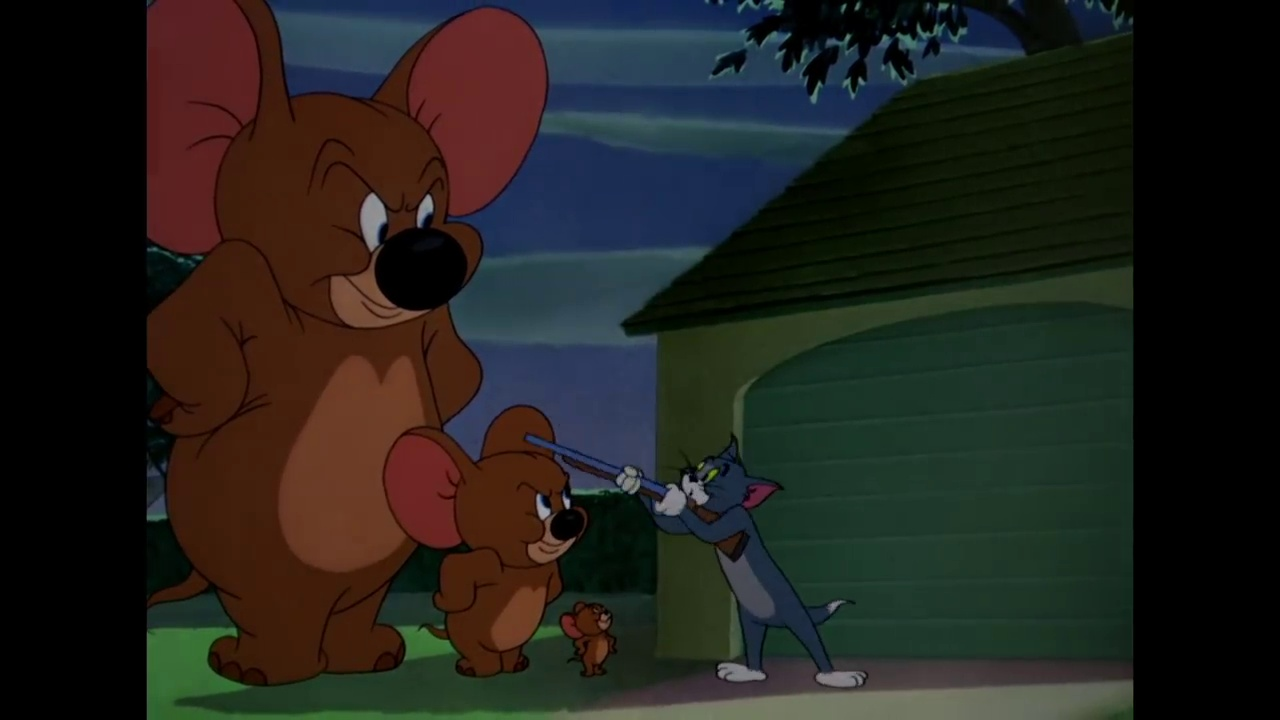tom: (669, 429, 788, 520)
